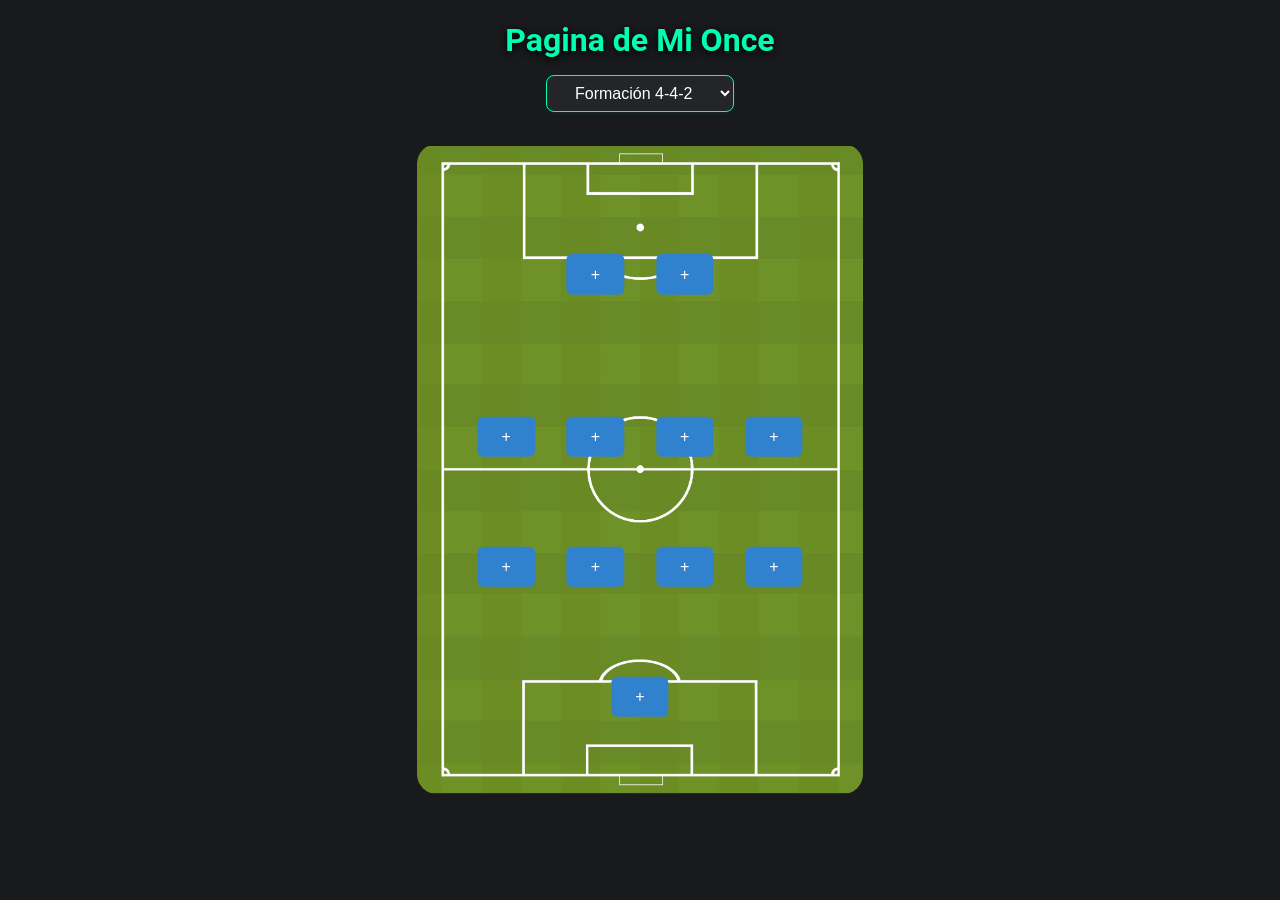
Test: en la pagina MiOnce › no muestra jugadores ya asignados en otras posiciones
This screenshot has width=1280, height=900.
Click the 7th button "+": (506, 567) [478, 547, 535, 587]
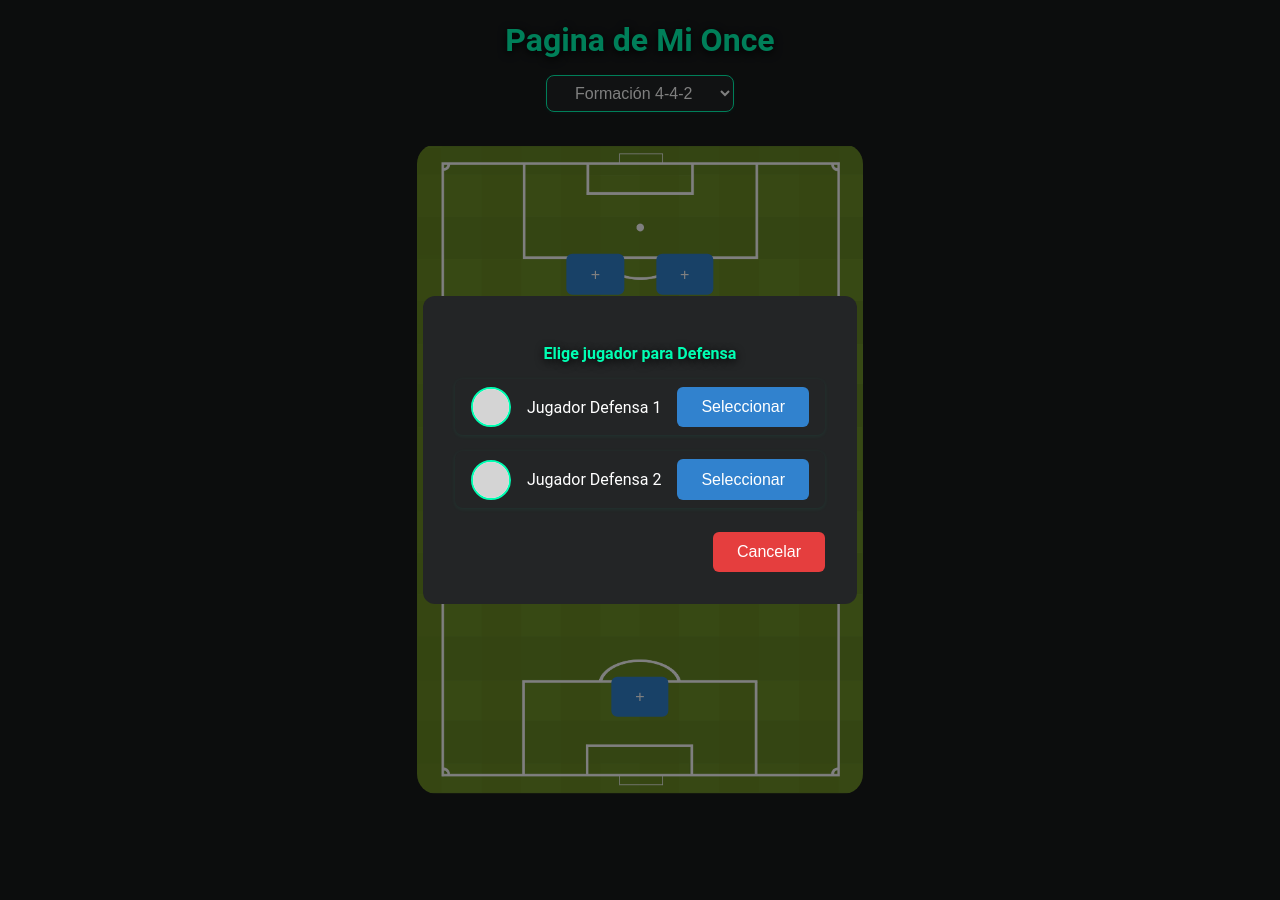
Click the button "Seleccionar" next to "Jugador Defensa 1": (743, 407) [677, 387, 809, 427]
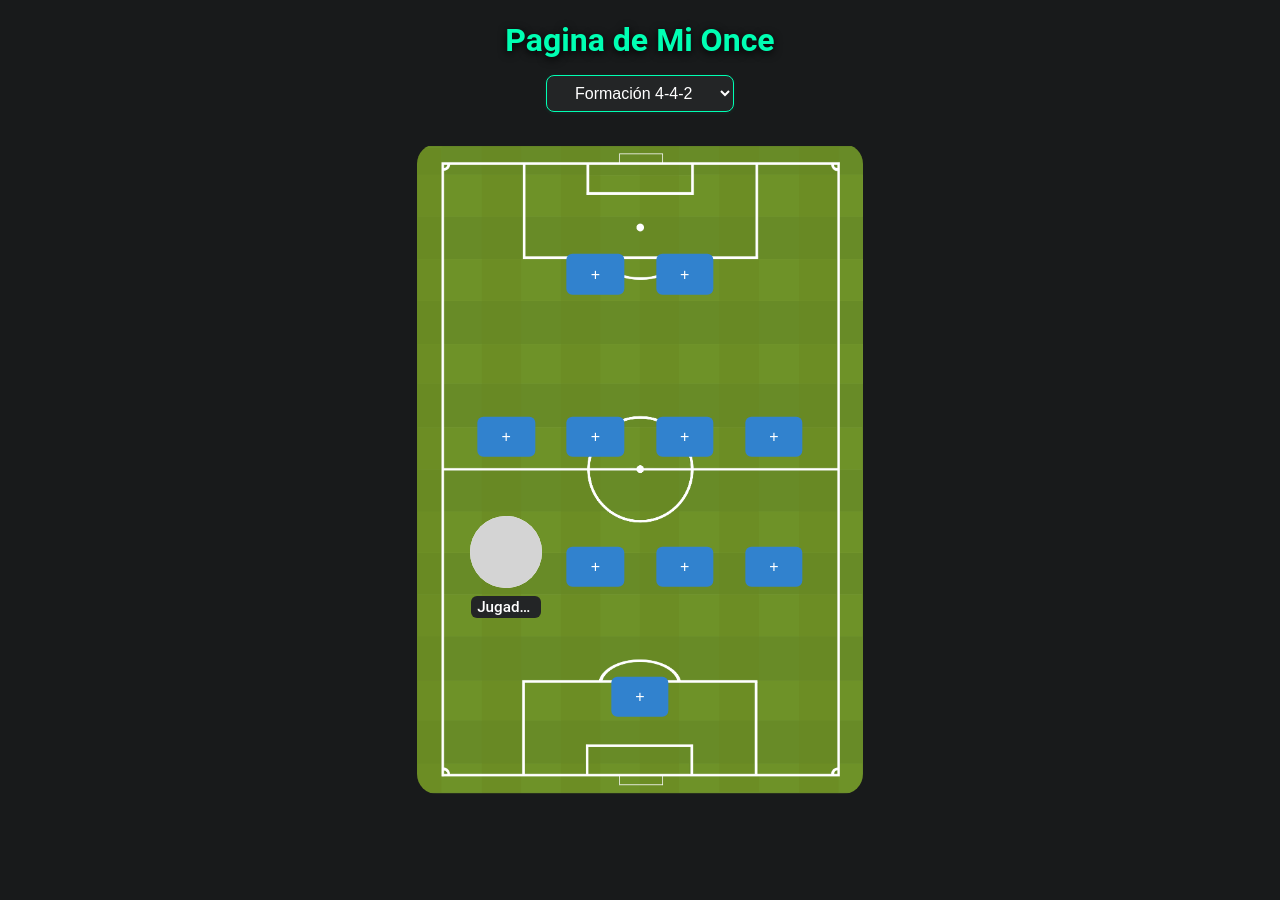
expect the element with test id "defensa1" reads "Jugador Defensa 1": met, box [477, 598, 606, 616]
Click the 7th button "+": (595, 567) [567, 547, 624, 587]
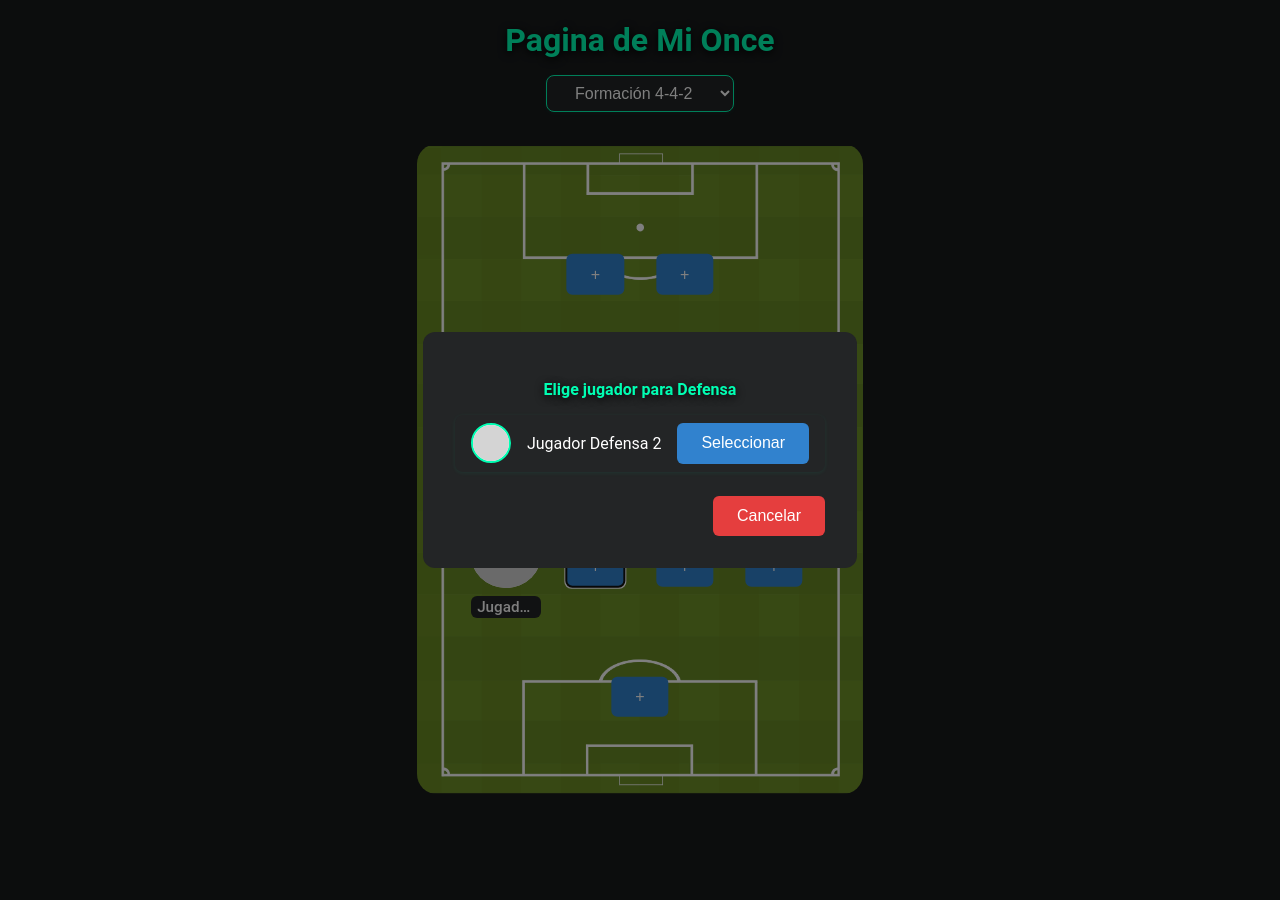
expect the text "Jugador Defensa 2" is shown: met, box [527, 434, 662, 453]
